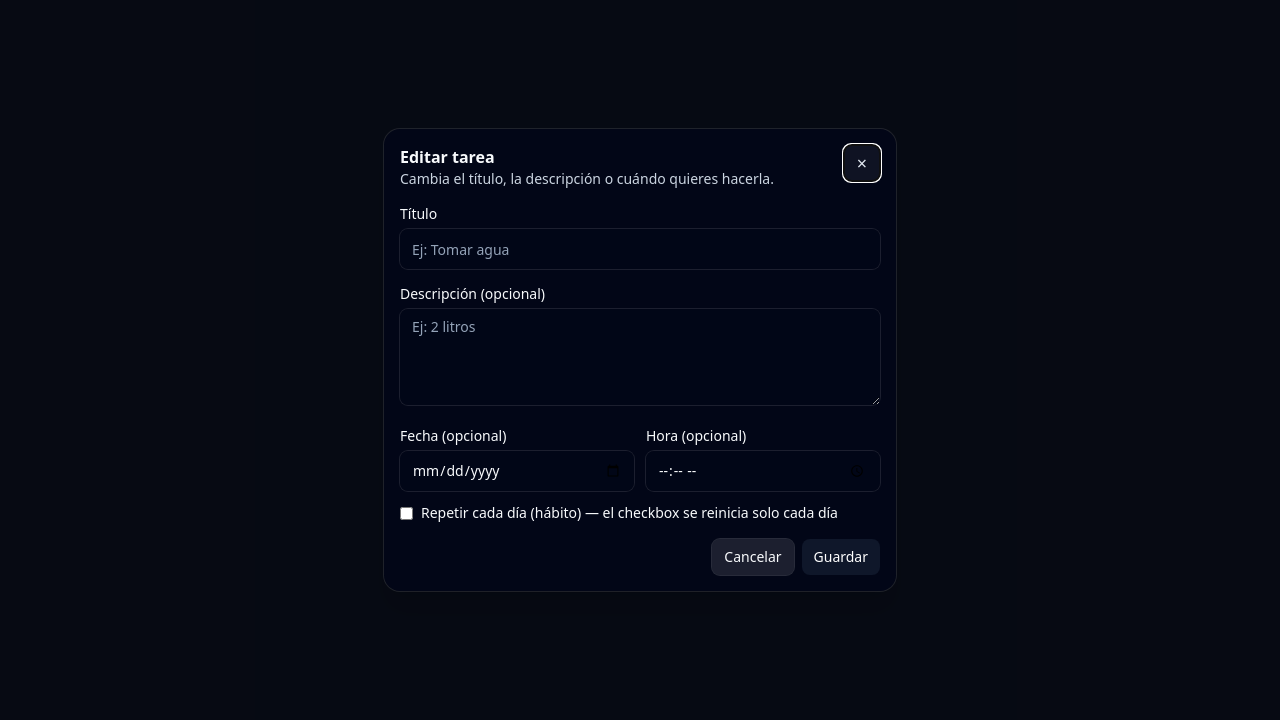
Test case: TaskFormModal › requires a non-empty title
Clear the field labelled "Título": coordinates (640, 249) [400, 229, 880, 269]
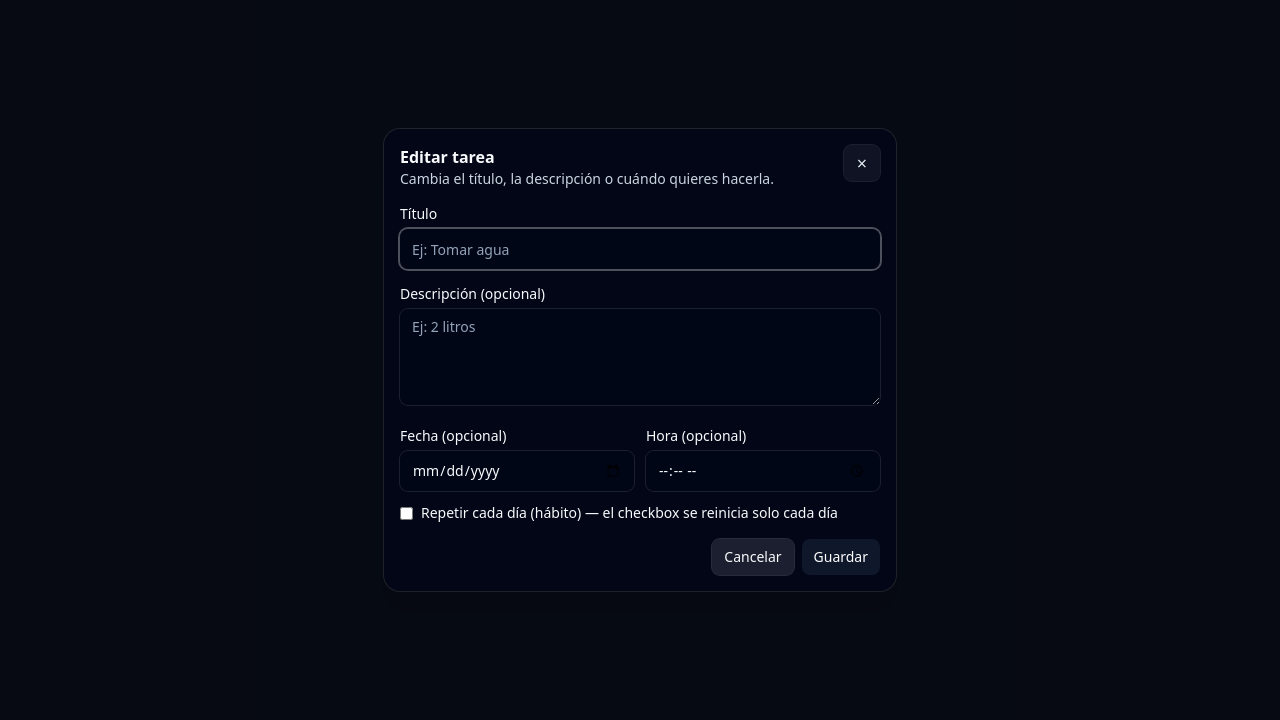
Click the button "Guardar": coordinates (841, 557) [802, 539, 880, 575]
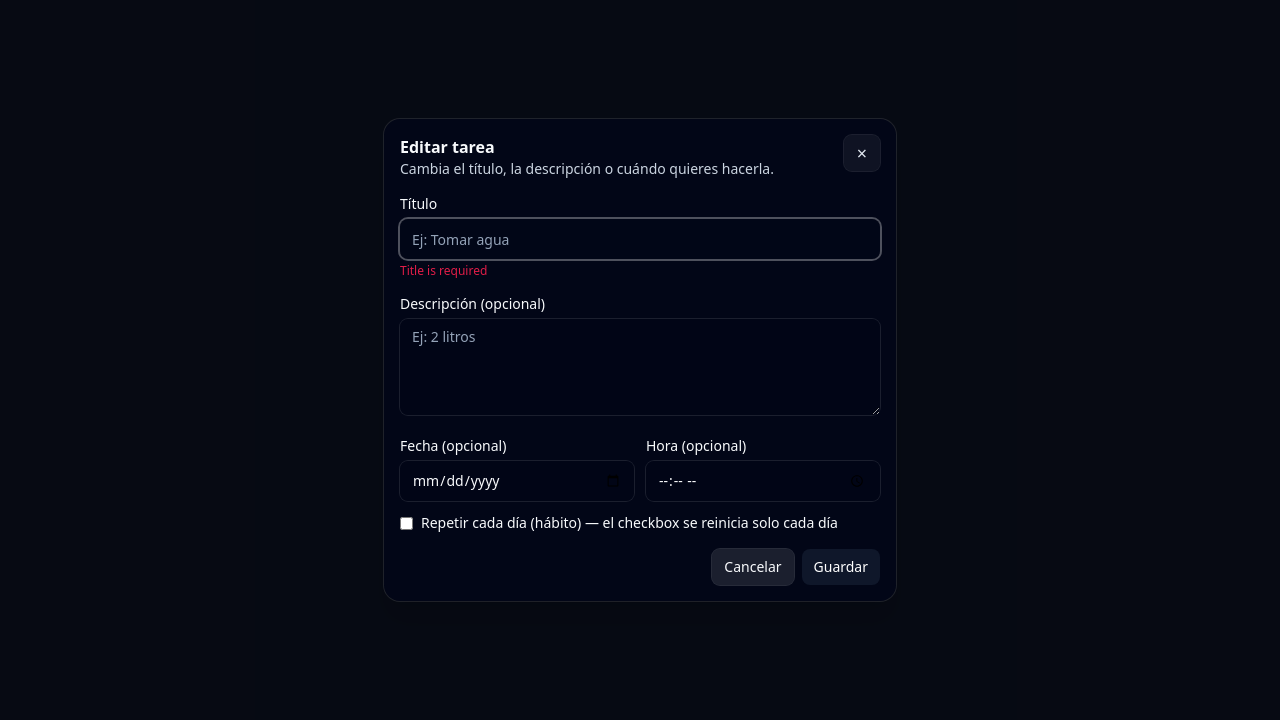
Now the text "Title is required" is shown, box [400, 262, 487, 279]
